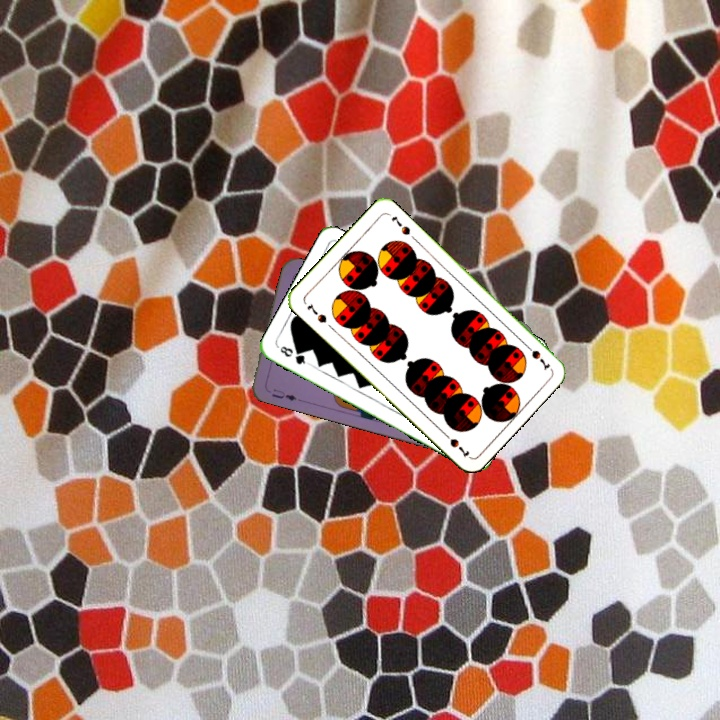EU: (268, 385, 299, 404)
G8: (276, 342, 312, 367)
S7: (521, 340, 553, 373), (303, 299, 329, 326)
